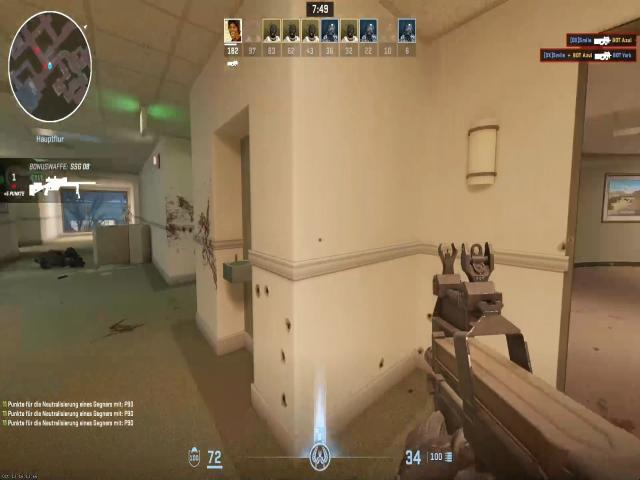Dead: (32, 242, 86, 279)
